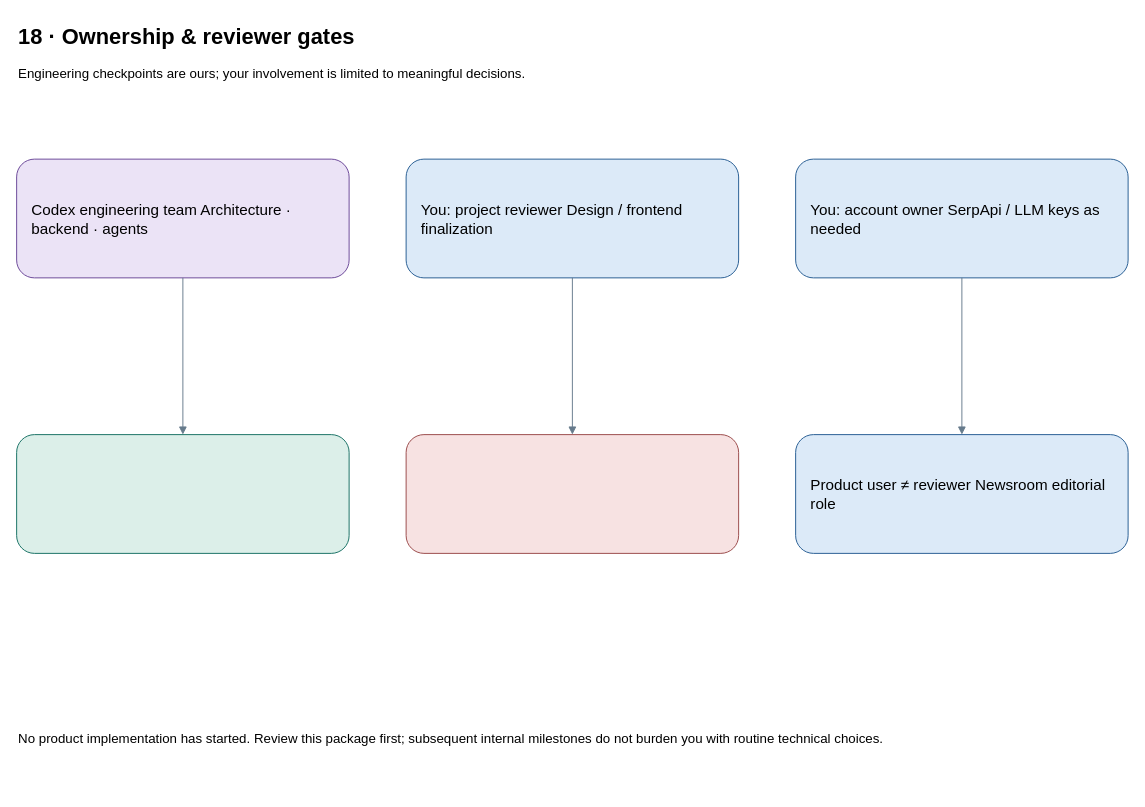
This 1145x807 diagram has some shape labels left out. The centre of each missing label's shape, as x and y in pixels:
"Engineering-owned gates Tests · cost · recovery · quality" belongs at [182,493].
"Your explicit authority Spend / license / public submit" belongs at [572,493].
